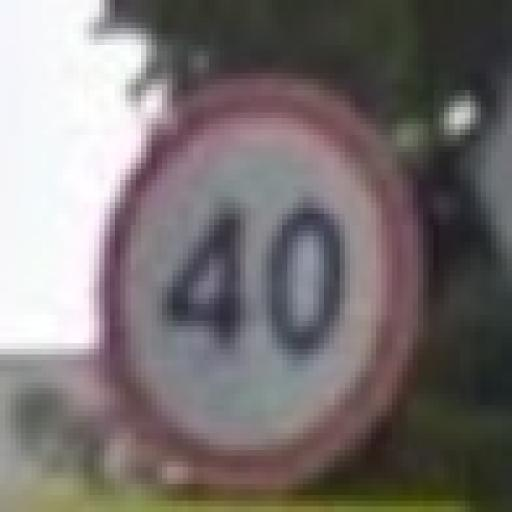traffic_sign: (95, 74, 429, 496)
